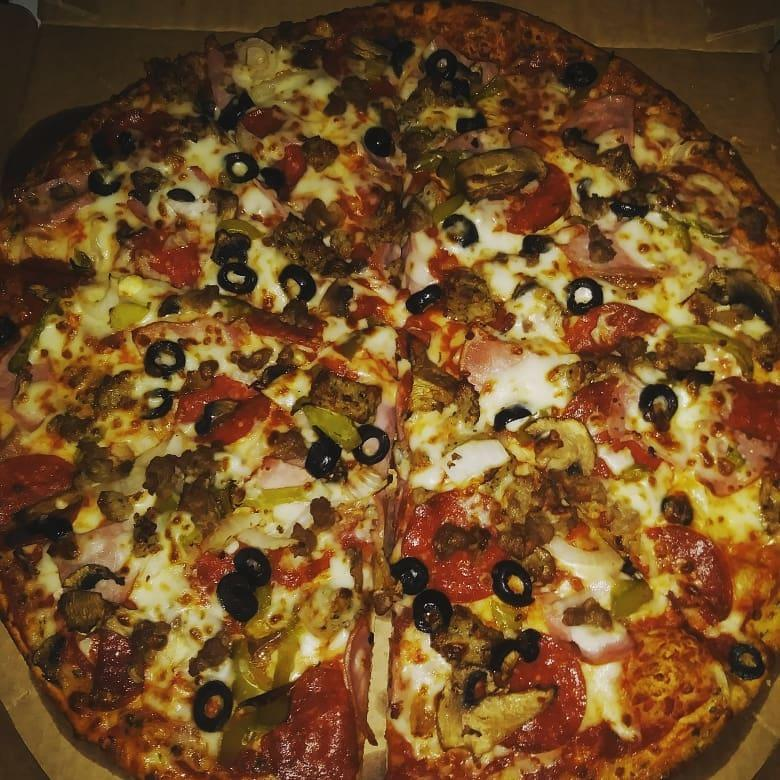Ham: (613, 379, 778, 498), (47, 510, 146, 609), (542, 596, 645, 665), (339, 607, 383, 750), (558, 91, 639, 161), (129, 314, 255, 355), (0, 350, 60, 435), (455, 333, 536, 393), (432, 127, 552, 161), (422, 41, 505, 90), (199, 28, 241, 111), (365, 400, 399, 476)
Mushroom: (429, 600, 504, 763), (558, 126, 686, 213), (463, 674, 557, 763), (400, 335, 484, 431), (701, 260, 780, 338), (453, 143, 547, 205), (524, 409, 603, 479), (432, 259, 503, 329), (1, 488, 81, 546), (54, 588, 113, 635), (27, 628, 71, 686), (341, 29, 397, 67)
Olives: (184, 675, 239, 732), (487, 556, 543, 611), (209, 568, 259, 624), (631, 382, 680, 430), (229, 542, 277, 590), (407, 589, 452, 640), (138, 337, 191, 377), (561, 274, 609, 318), (275, 259, 318, 307), (385, 553, 434, 595), (653, 487, 698, 532), (214, 89, 262, 130), (305, 433, 344, 483), (660, 357, 717, 391), (131, 383, 177, 423), (724, 637, 767, 679), (352, 423, 390, 467), (64, 561, 127, 587), (383, 35, 419, 79), (214, 260, 259, 295), (220, 148, 260, 187), (557, 56, 601, 91), (439, 216, 484, 250), (493, 400, 534, 437), (422, 45, 460, 84), (493, 635, 527, 677), (402, 284, 446, 315), (194, 400, 235, 433), (84, 169, 129, 199), (605, 191, 651, 220), (458, 665, 494, 702), (357, 124, 397, 155), (512, 626, 546, 659), (451, 109, 489, 136), (0, 307, 19, 352), (254, 166, 288, 189), (165, 184, 201, 204)
Pepperoni: (399, 487, 521, 607), (256, 652, 370, 780), (469, 630, 587, 753), (621, 521, 735, 634), (561, 372, 672, 484), (698, 372, 780, 494), (0, 447, 82, 538), (177, 374, 283, 441), (565, 302, 675, 362), (241, 102, 309, 198), (486, 160, 569, 238), (120, 221, 207, 293), (85, 625, 147, 715), (242, 301, 327, 352), (98, 107, 186, 156)
Peppers: (215, 591, 303, 772), (660, 319, 758, 386), (412, 151, 470, 225), (13, 297, 63, 380), (298, 399, 362, 453), (234, 474, 314, 511), (605, 576, 661, 623), (146, 464, 183, 519), (211, 213, 267, 245), (655, 212, 694, 255), (106, 300, 154, 332), (470, 74, 509, 107), (696, 216, 737, 245), (489, 605, 528, 634)
Pizza: (0, 0, 780, 780)
